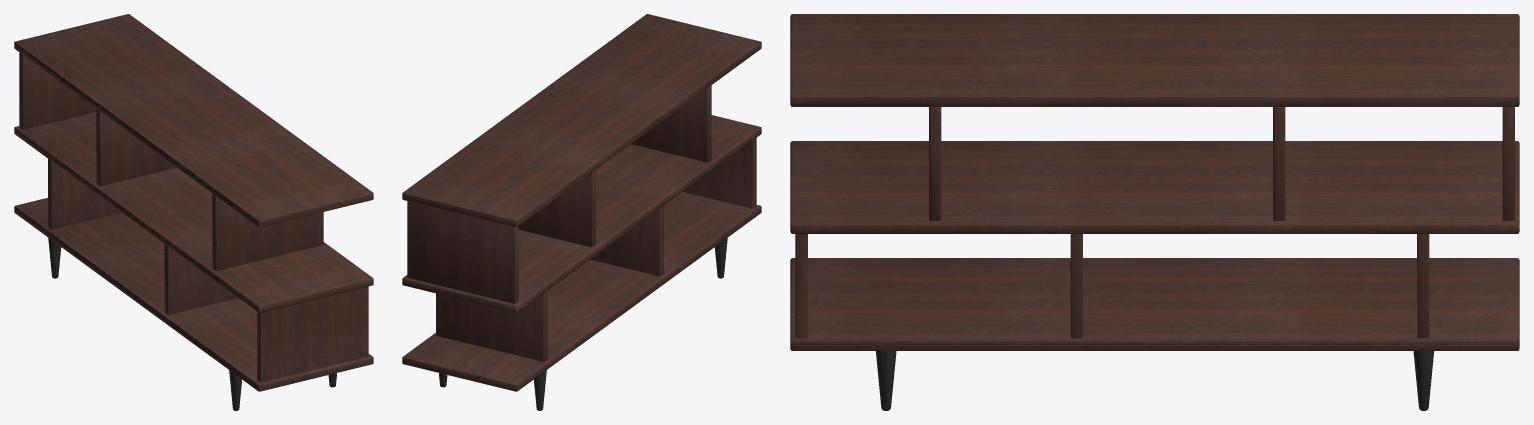
File: shelf.glb
The picture shows the model from 3 angles, left to right: view 1: azimuth 30°, elevation 25°; view 2: azimuth 150°, elevation 25°; view 3: azimuth 270°, elevation 25°; orthographic projection. The views are drawn at different scales.
Visible parts, largest first — view 1: Object_2; view 2: Object_2; view 3: Object_2.
Part boxes in pixels (x1,y1,x2,y2): Object_2: (14, 14, 373, 410); Object_2: (402, 14, 761, 410); Object_2: (790, 14, 1519, 410).
Bounding box in the file's own units: 1.73 × 3.08 × 6.35.
1 material, 1 textured.
